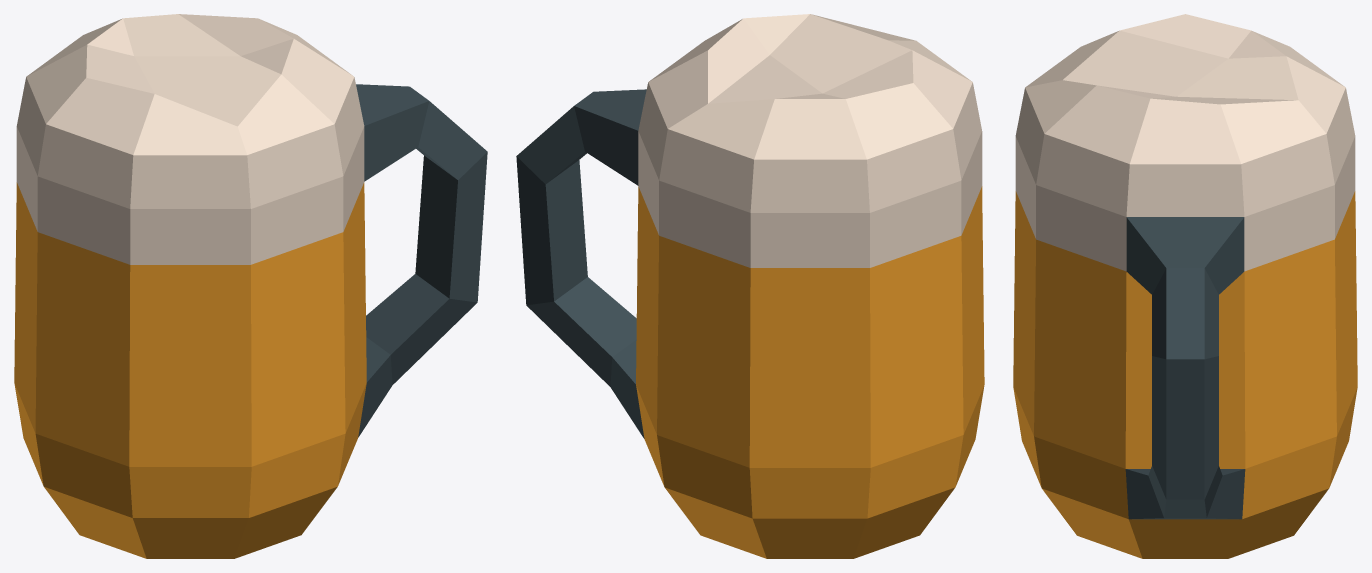
File: food_beer.fbx
3 renders of one model, left to right at view 1: azimuth 30°, elevation 25°; view 2: azimuth 150°, elevation 25°; view 3: azimuth 270°, elevation 25°, orthographic. The views are drawn at different scales.
Visible parts, largest first — view 1: food_beer; view 2: food_beer; view 3: food_beer.
Part boxes in pixels (x1,y1,x2,y2): food_beer: [14, 14, 487, 558]; food_beer: [516, 14, 984, 558]; food_beer: [1013, 14, 1357, 558].
Size of the model in its own units: 200 by 200 by 138.
